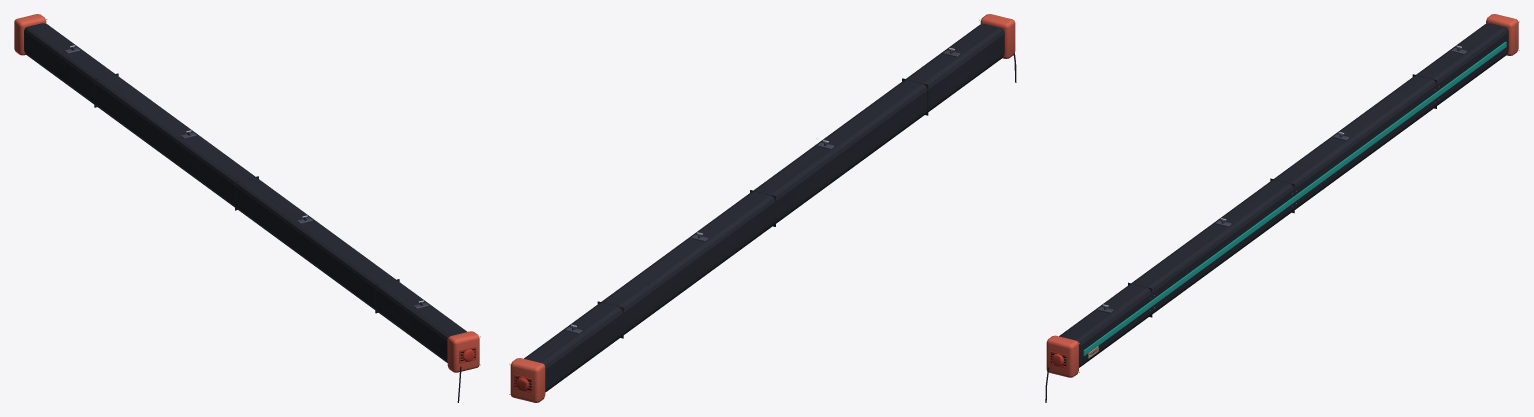
Rendered from SM_Prop_ScreenRoller.fbx.
The picture shows the model from 3 angles, left to right: view 1: azimuth 30°, elevation 25°; view 2: azimuth 150°, elevation 25°; view 3: azimuth 330°, elevation 25°; orthographic projection. The views are drawn at different scales.
Parts seen in each view (by area): view 1: SM_Prop_ScreenRoller; view 2: SM_Prop_ScreenRoller; view 3: SM_Prop_ScreenRoller.
Part boxes in pixels (x1=…): SM_Prop_ScreenRoller: x1=14, y1=14, x2=480, y2=402; SM_Prop_ScreenRoller: x1=509, y1=14, x2=1016, y2=402; SM_Prop_ScreenRoller: x1=1045, y1=14, x2=1519, y2=402.
Size of the model in its own units: 65.24 by 146 by 1841.
